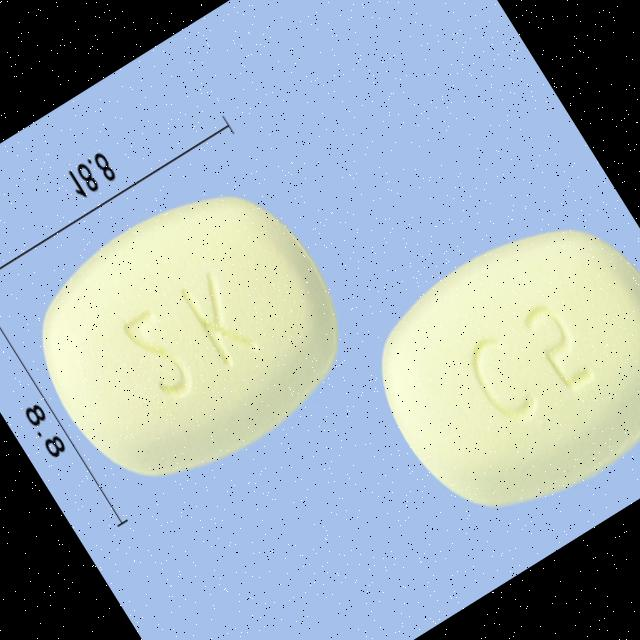Clithocin: (0, 151, 379, 519), (339, 184, 640, 553)
